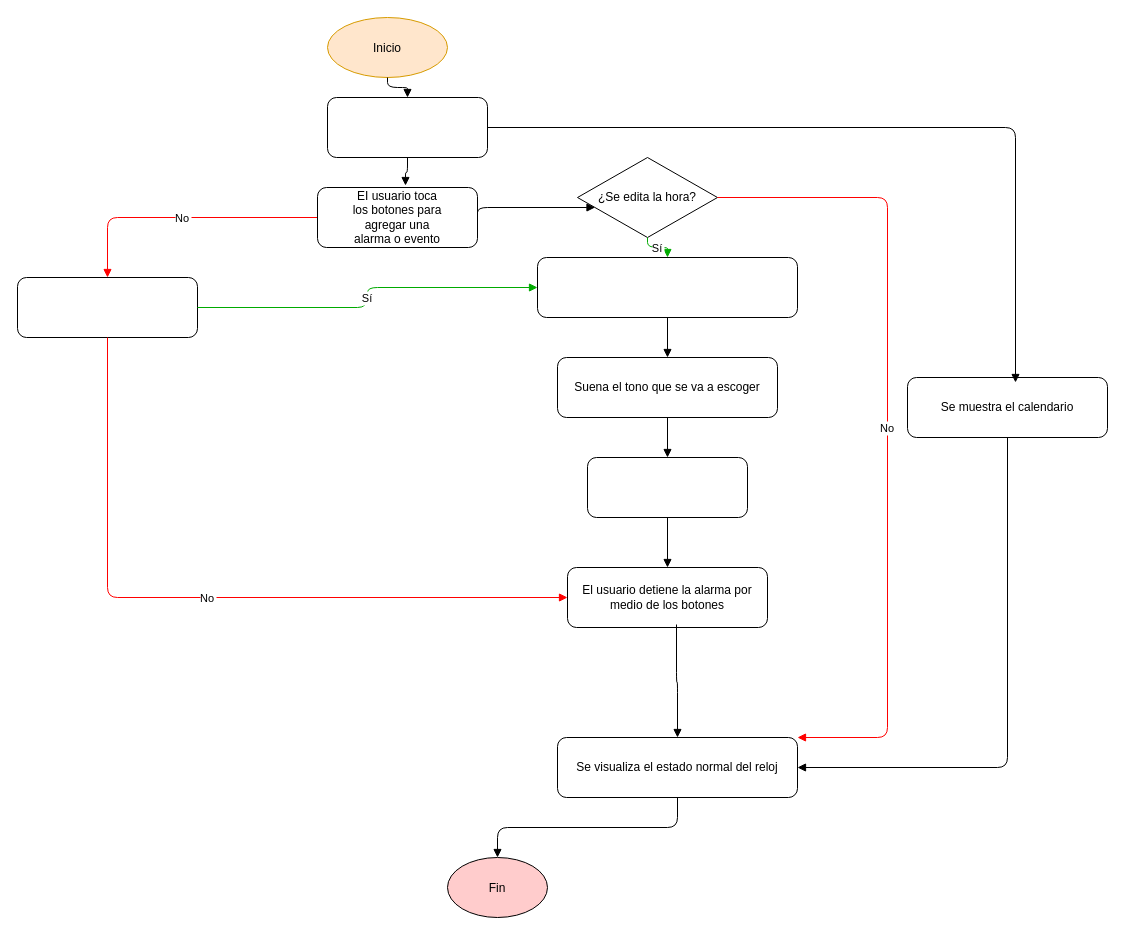
Some shapes in this 1125 by 935 pixel diagram are drawn without their labels. Here are the shapes that lost their labels. From the top down, the box of each, then its label:
(326, 96, 488, 158): Se prende el RTC
(16, 276, 198, 338): Se crea un evento
(536, 256, 798, 318): Se escoge la hora/día/fecha de la alarma/evento
(586, 456, 748, 518): Suena la alarma (Buzzer y LEDs)
